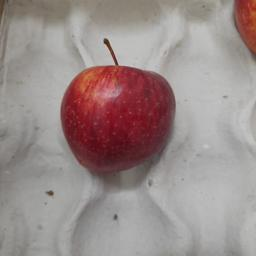Apple Fresh: (54, 26, 186, 182)
